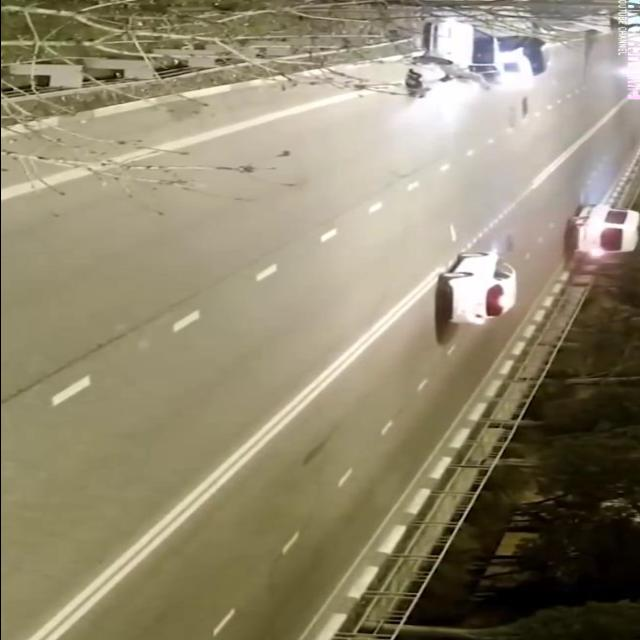accident: (394, 15, 560, 107)
